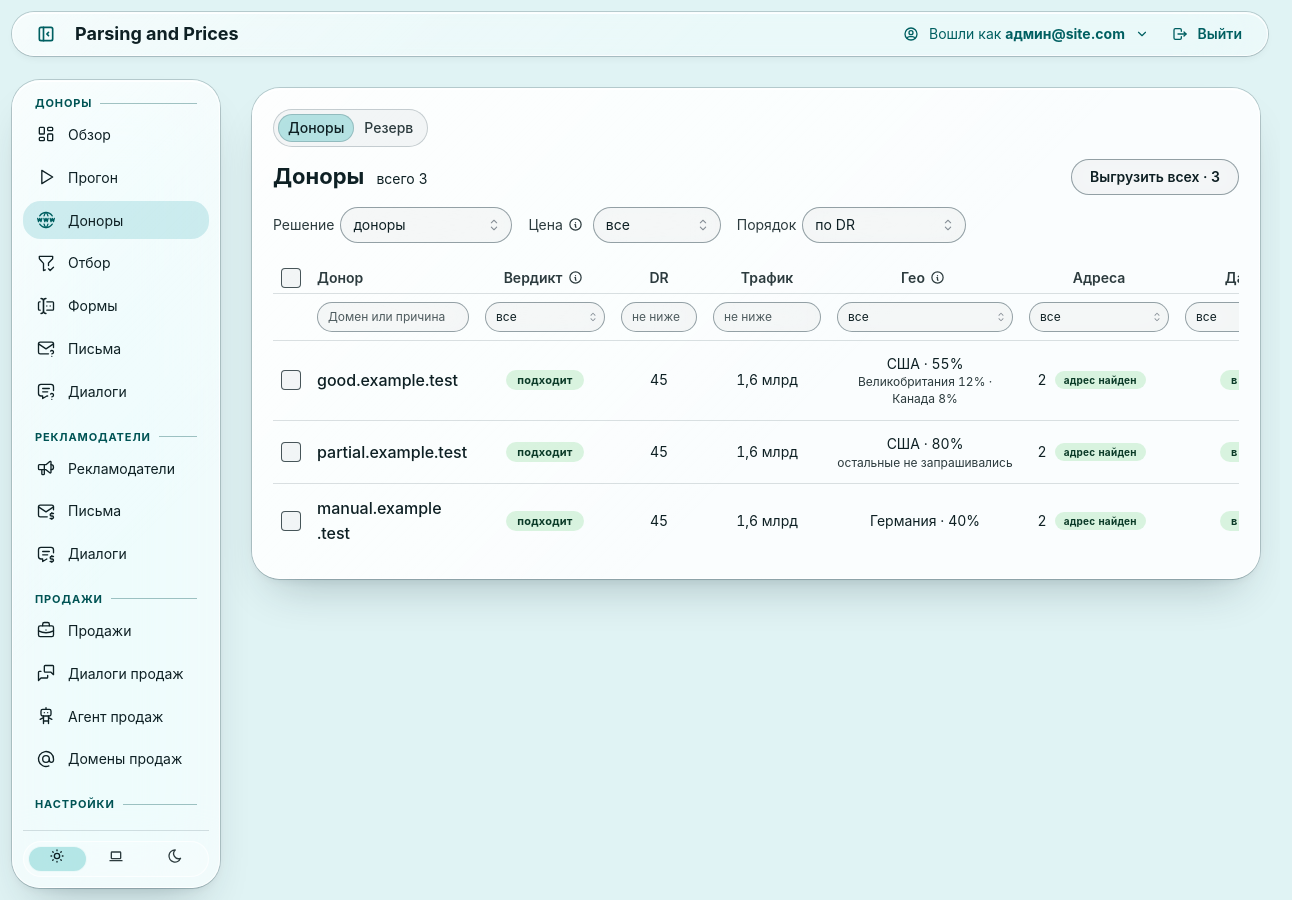
Test: доноры: колонка «Гео» — все пять стран › что в колонке и что ищет фильтр — в «i» у заголовка
Check: the link "good.example.test" is shown, box [317, 370, 458, 390]
Hover over the button named "Страна в топ-5" at (938, 278), box [927, 267, 949, 289]
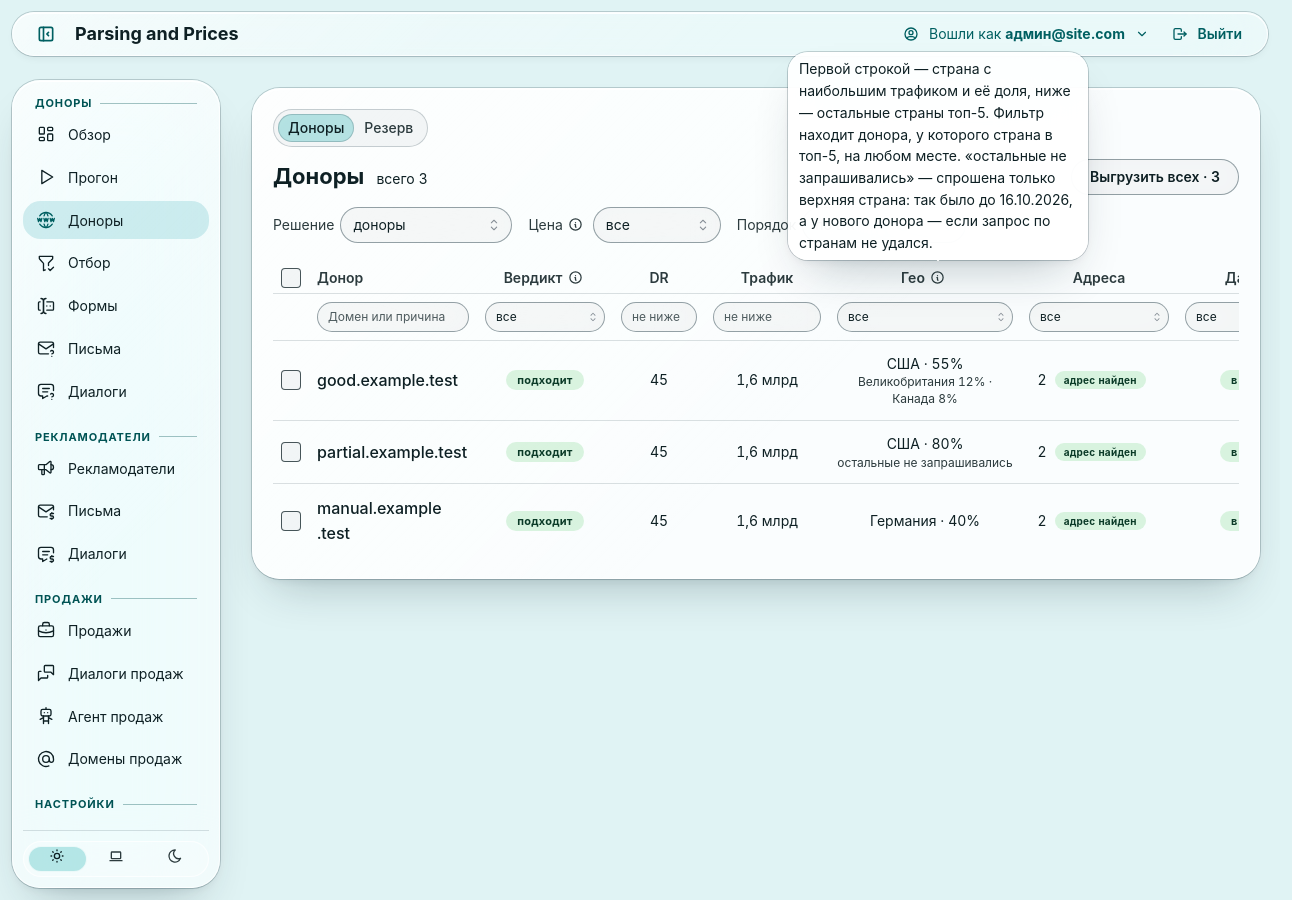
Check: the tooltip "Фильтр находит донора, у которого страна в топ-5" is shown, box [799, 60, 1071, 164]
